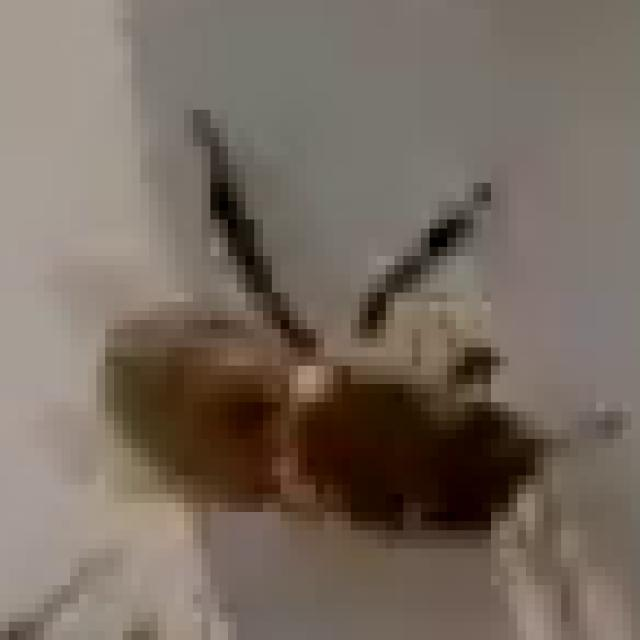honeybee: (116, 189, 570, 534)
